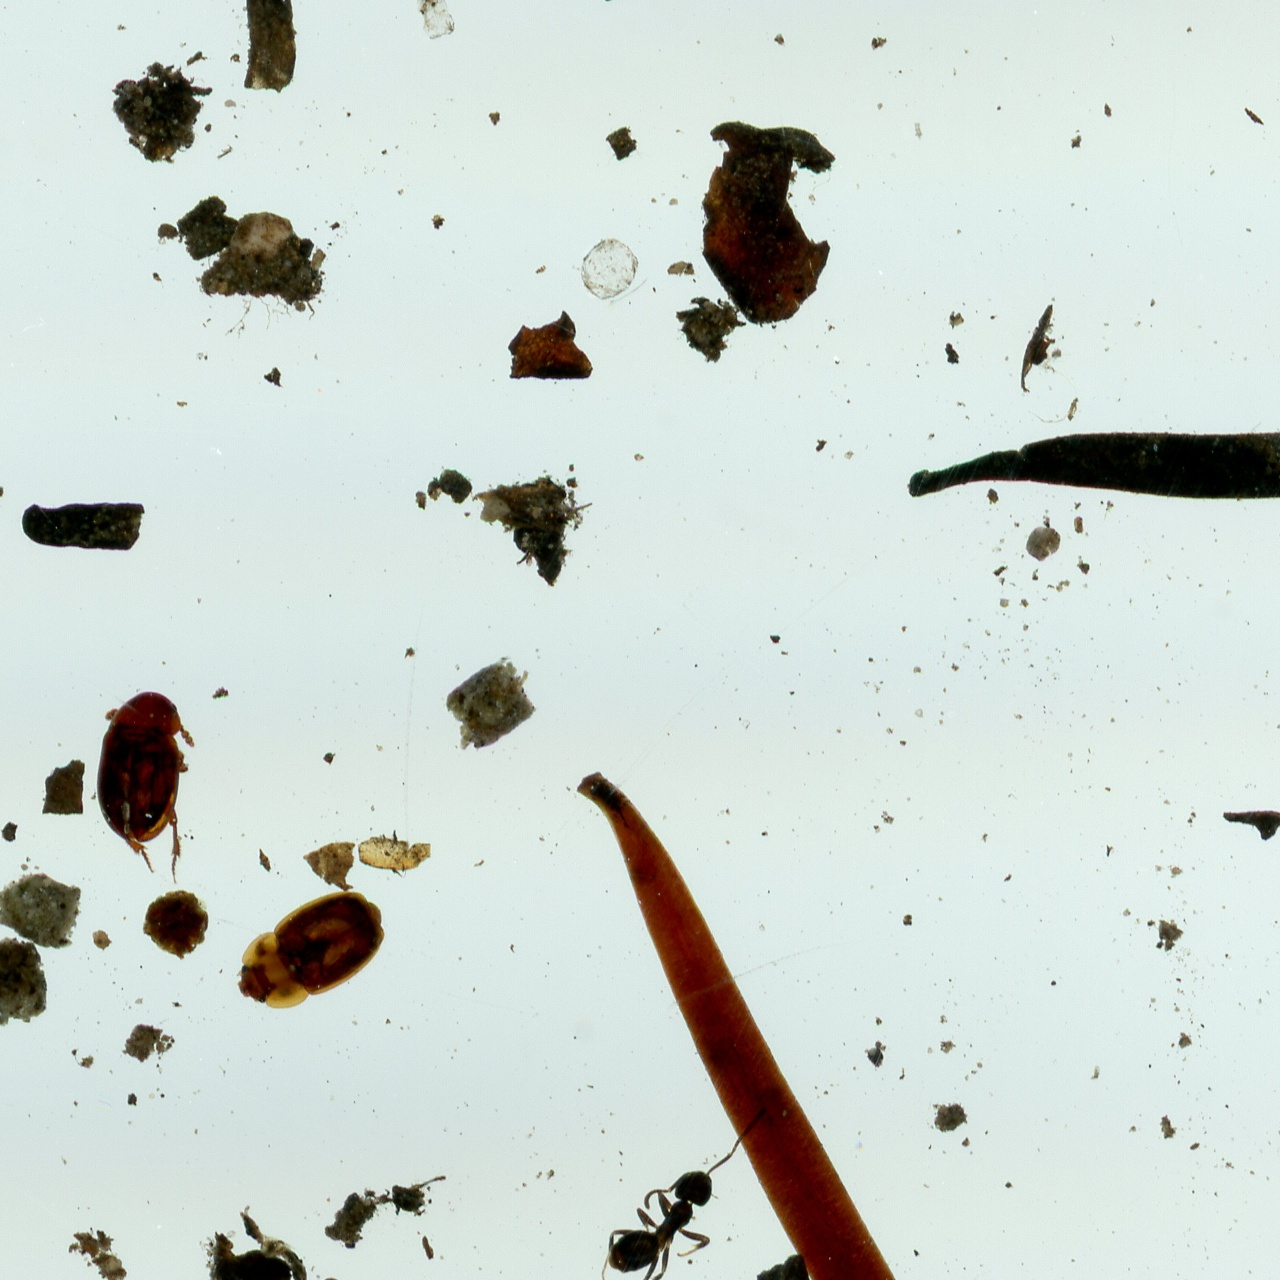arthropod: (577, 1112, 759, 1280), (218, 871, 400, 1026), (97, 689, 194, 882)
